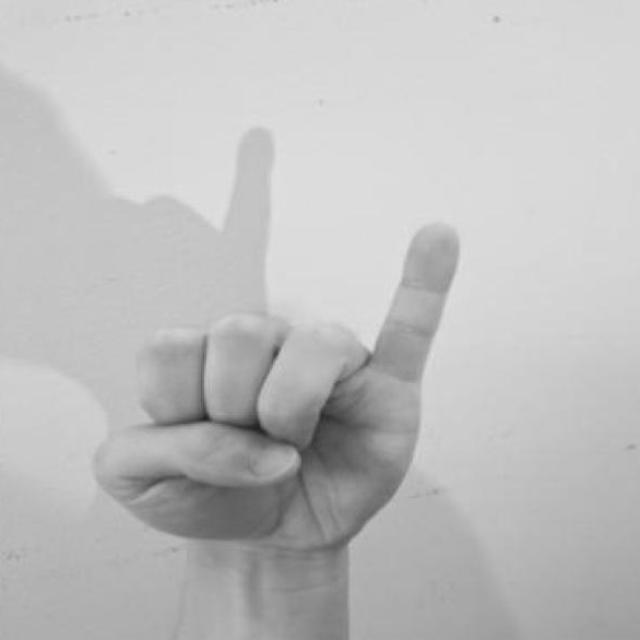I: (76, 201, 474, 573)
